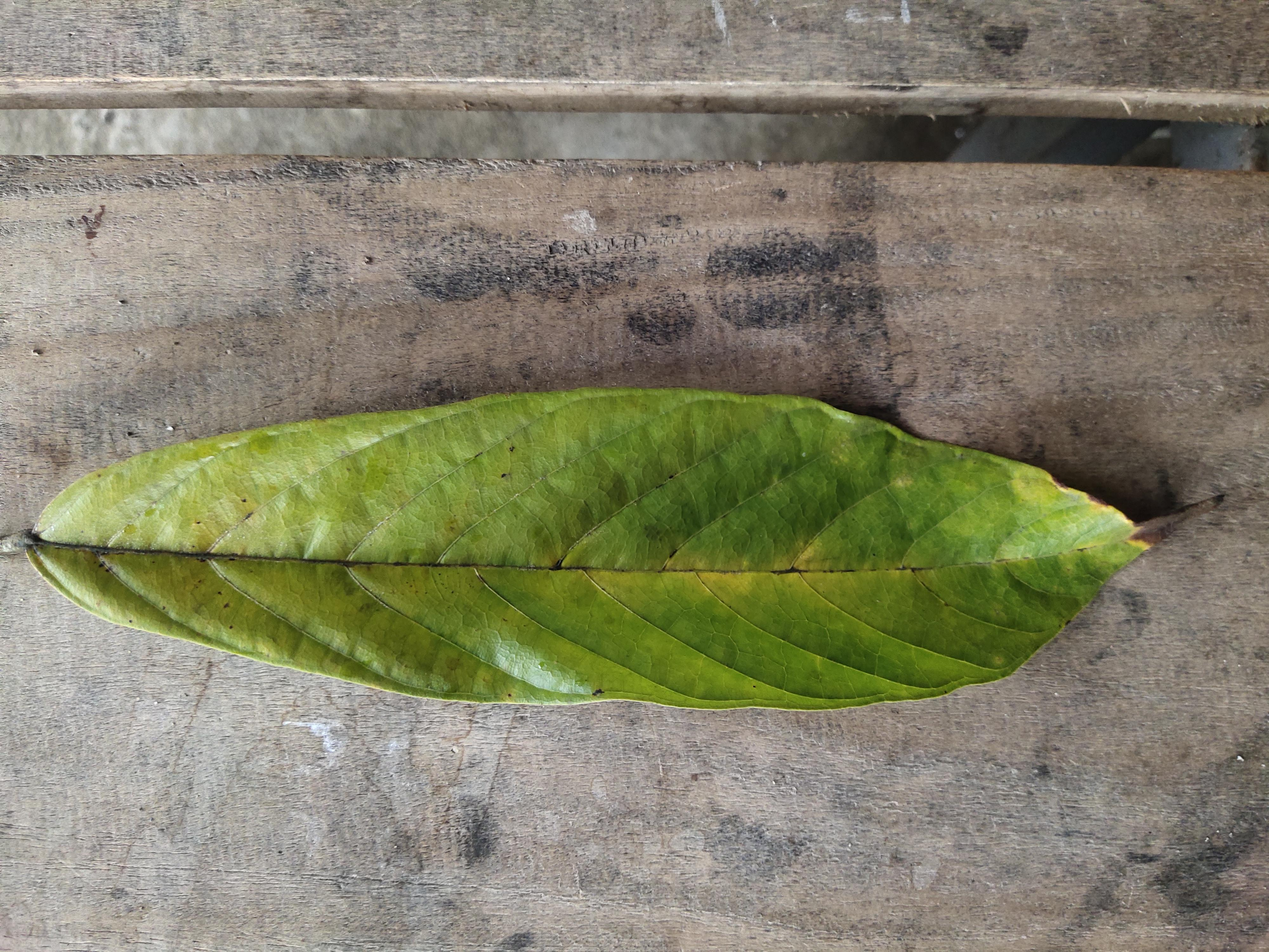deficiencia_potasio: (29, 389, 1203, 719)
